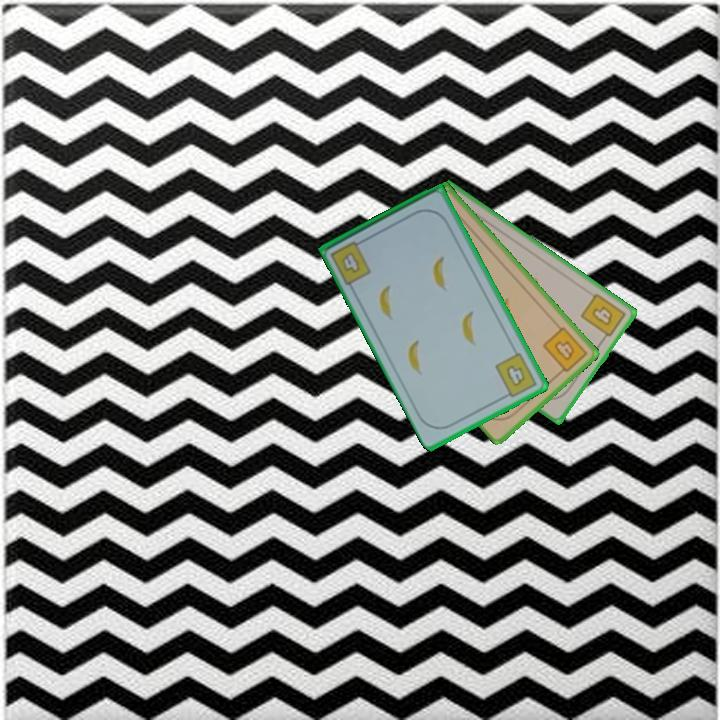4b: (577, 290, 629, 345), (539, 323, 590, 378), (491, 349, 540, 402), (327, 235, 374, 288)
